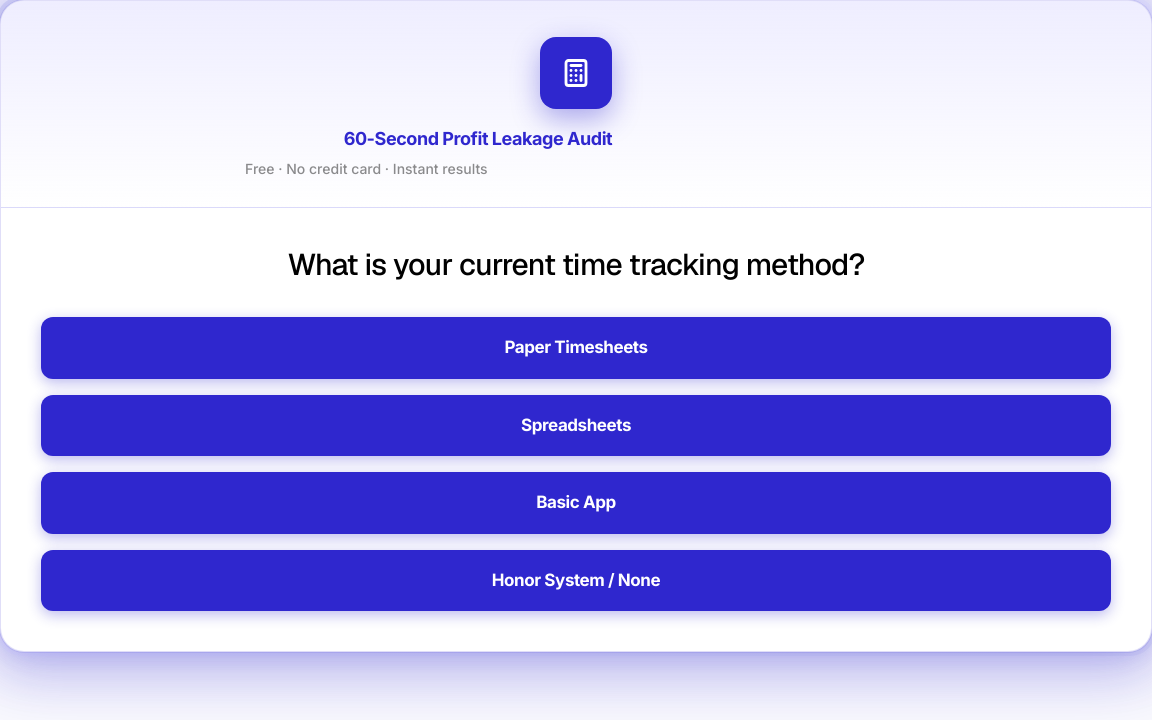
MultiStepSavingsCalculator › opens the full screen overlay when a teaser option is clicked
This screenshot has width=1152, height=720.
Click the button "Paper Timesheets" at (576, 348), box [41,317,1111,379]
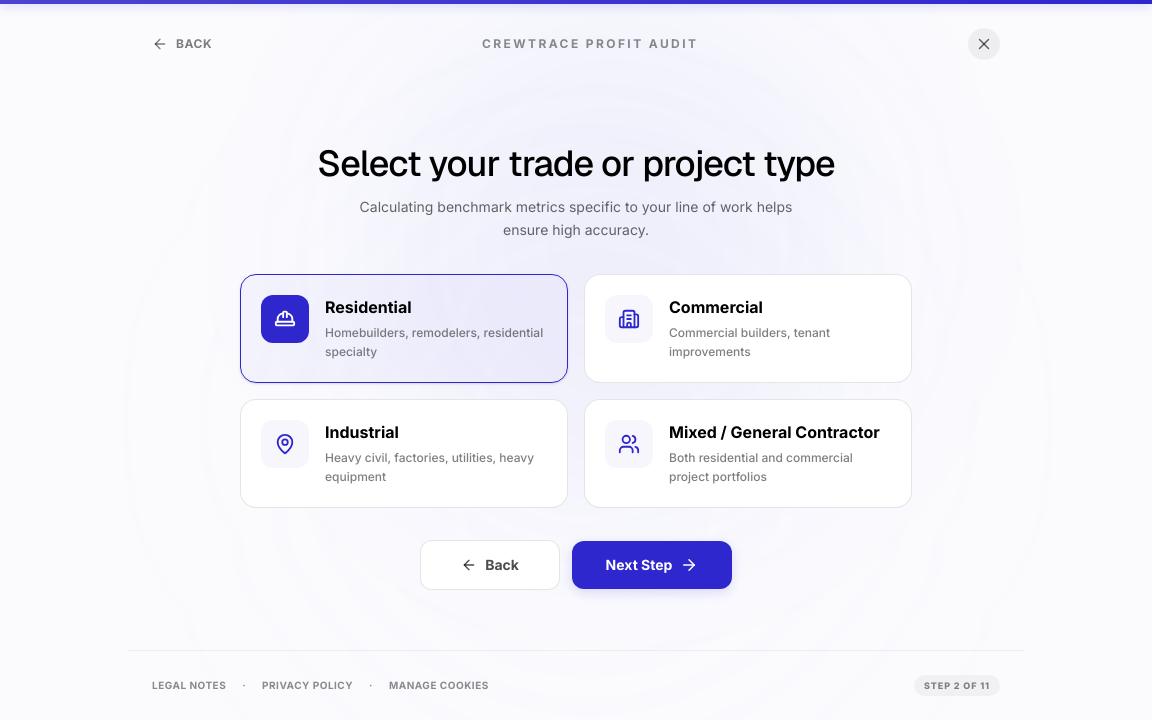
Expected: the heading "Select your trade or project type" is shown, [317,140,835,187]
